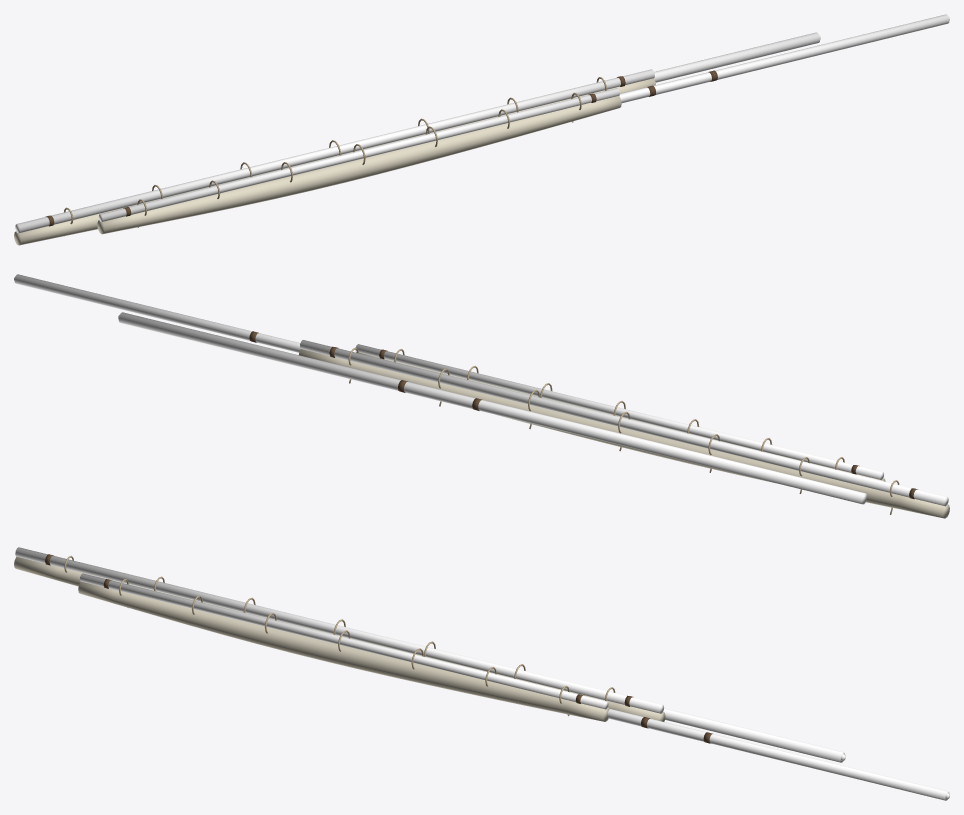
File: rig_stowed.glb
3 renders of one model, top to bottom at view 1: azimuth 30°, elevation 25°; view 2: azimuth 150°, elevation 25°; view 3: azimuth 330°, elevation 25°, orthographic.
Visible parts, largest first — view 1: Rig_Stowed; view 2: Rig_Stowed; view 3: Rig_Stowed.
Boxes of the visible parts, x1,y1,x2,y2 form: Rig_Stowed: [14, 14, 949, 245]; Rig_Stowed: [14, 274, 949, 518]; Rig_Stowed: [14, 547, 949, 800].
Bounding box in the file's own units: 6.44 × 0.2368 × 0.3059.
